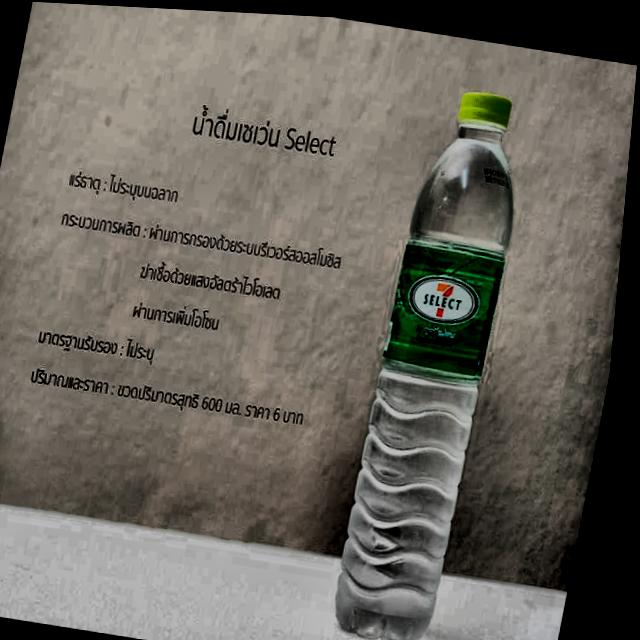Bottles: (319, 65, 551, 640)
